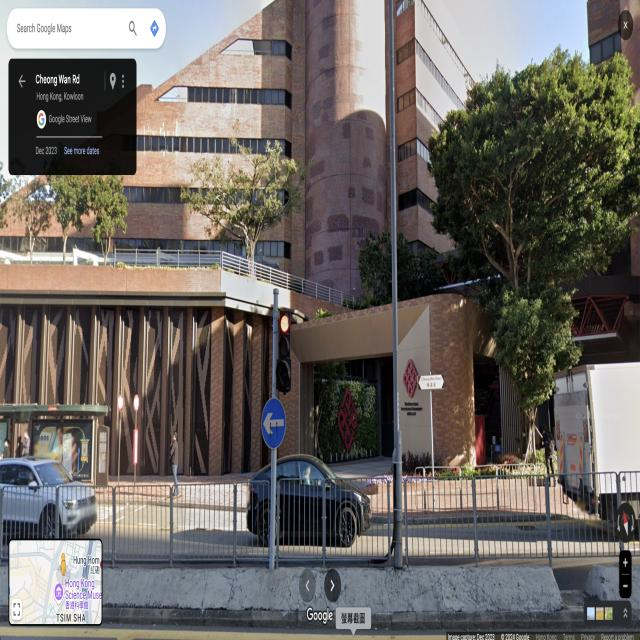Order-Sign: (261, 398, 286, 450)
Street-Direction-Sign: (418, 376, 444, 388)
